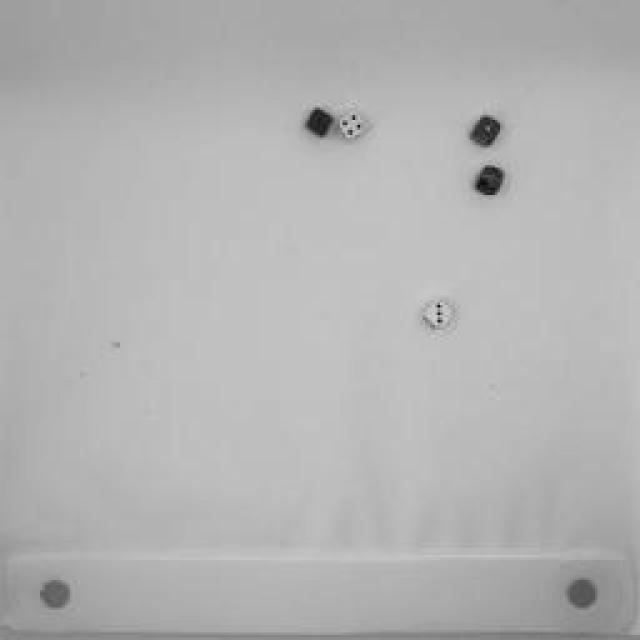dice_1: (468, 114, 502, 151)
dice_3: (420, 301, 455, 331)
dice_4: (476, 165, 509, 197), (335, 115, 365, 145)
dice_6: (304, 108, 336, 140)
